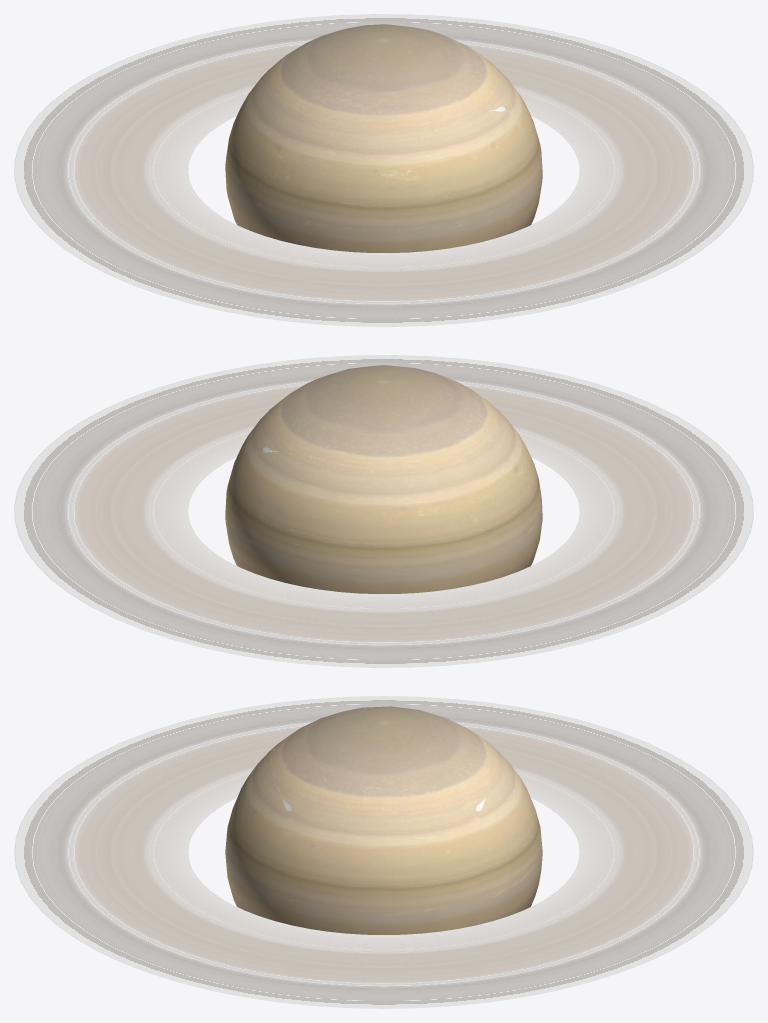
File: Saturn_1_120536.glb
3 renders of one model, top to bottom at view 1: azimuth 30°, elevation 25°; view 2: azimuth 150°, elevation 25°; view 3: azimuth 270°, elevation 25°, orthographic.
Parts seen in each view (by area): view 1: RingsTop, Saturn.001; view 2: RingsTop, Saturn.001; view 3: RingsTop, Saturn.001.
Boxes of the visible parts, x1,y1,x2,y2 form: RingsTop: (14, 14, 753, 326); Saturn.001: (225, 24, 542, 252); RingsTop: (14, 355, 753, 667); Saturn.001: (225, 365, 542, 593); RingsTop: (14, 696, 753, 1008); Saturn.001: (225, 706, 542, 934).
Bounding box in the file's own units: 2331 × 902 × 2331.
Materials: 2 (2 with a texture image).
